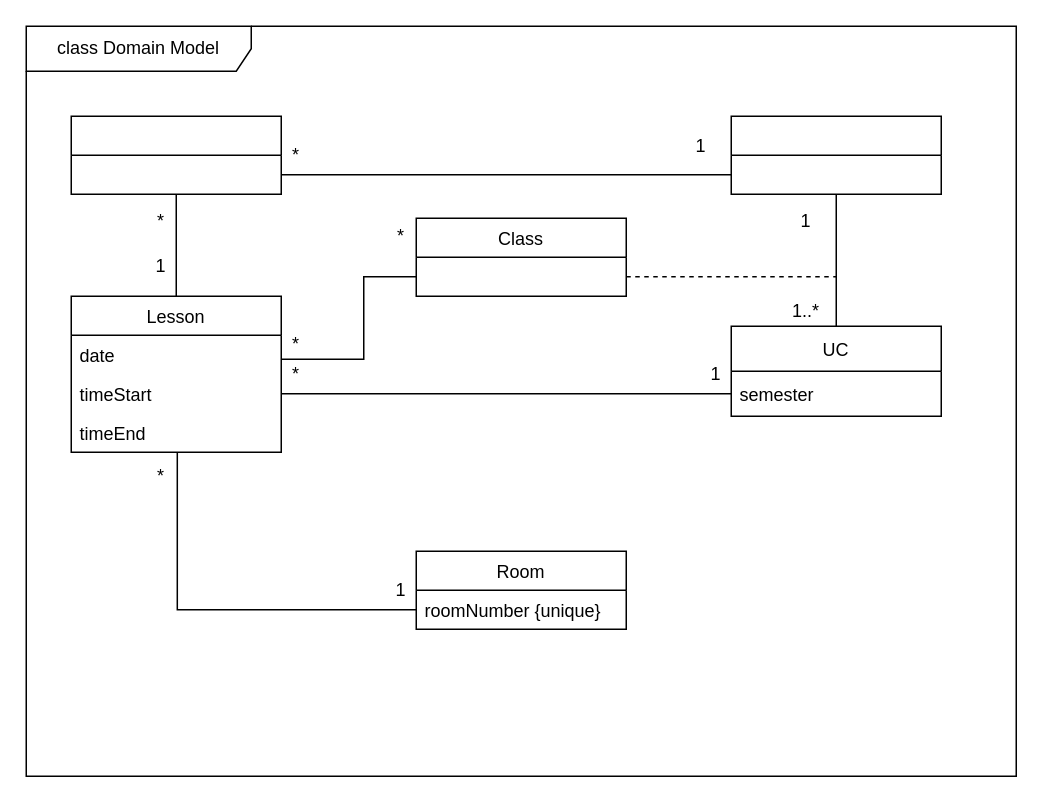
Some shapes in this 1043 by 803 pixel diagram are drawn without their labels. Here are the shapes that lost their labels. From the top down, the centre of each, then its label:
At point 175,154: "Notification".
At point 835,154: "User".
